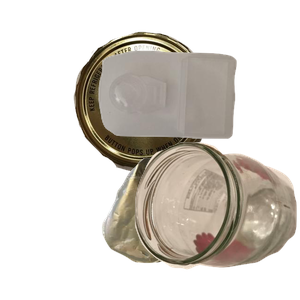glass: (132, 139, 300, 300)
metal: (71, 29, 276, 193)
plastic: (96, 48, 300, 179)
trash: (99, 155, 268, 300)
